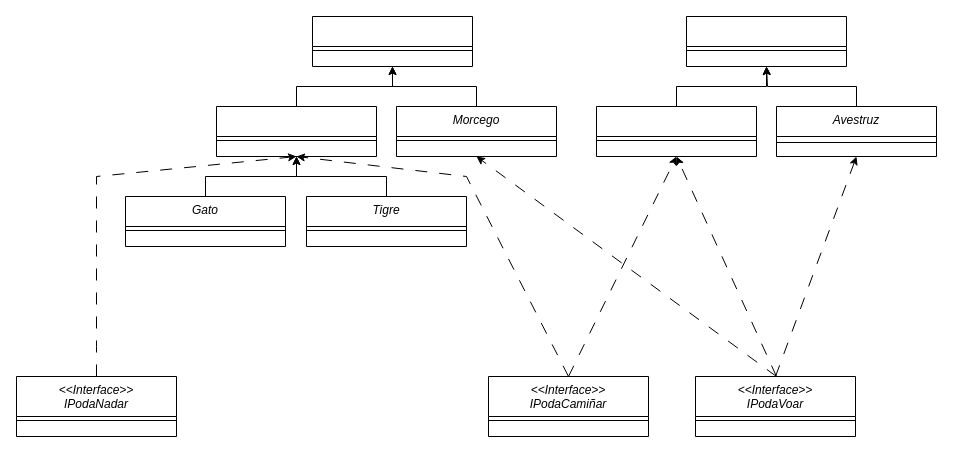
Some shapes in this 953 by 453 pixel diagram are drawn without their labels. The centre of each missing label's shape, as x and y in pixels:
"Aves" goes at pixel 766 41.
"Felinos" goes at pixel 296 131.
"Mamiferos" goes at pixel 392 41.
"Papagaio" goes at pixel 676 131.
